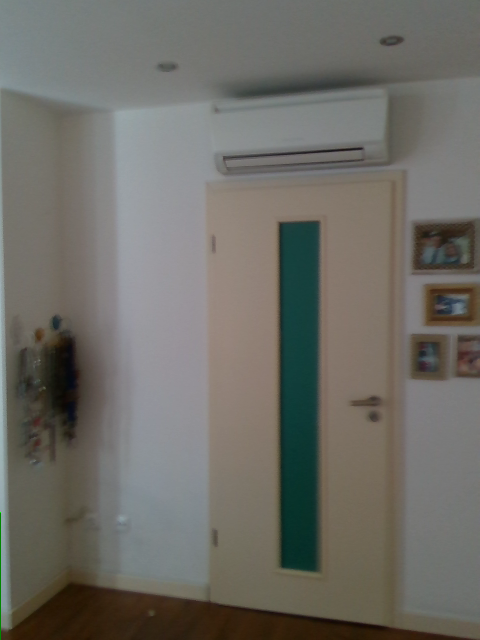closed: (201, 166, 404, 629)
